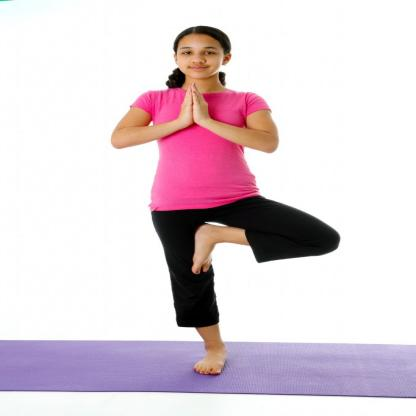tree: (106, 20, 346, 380)
